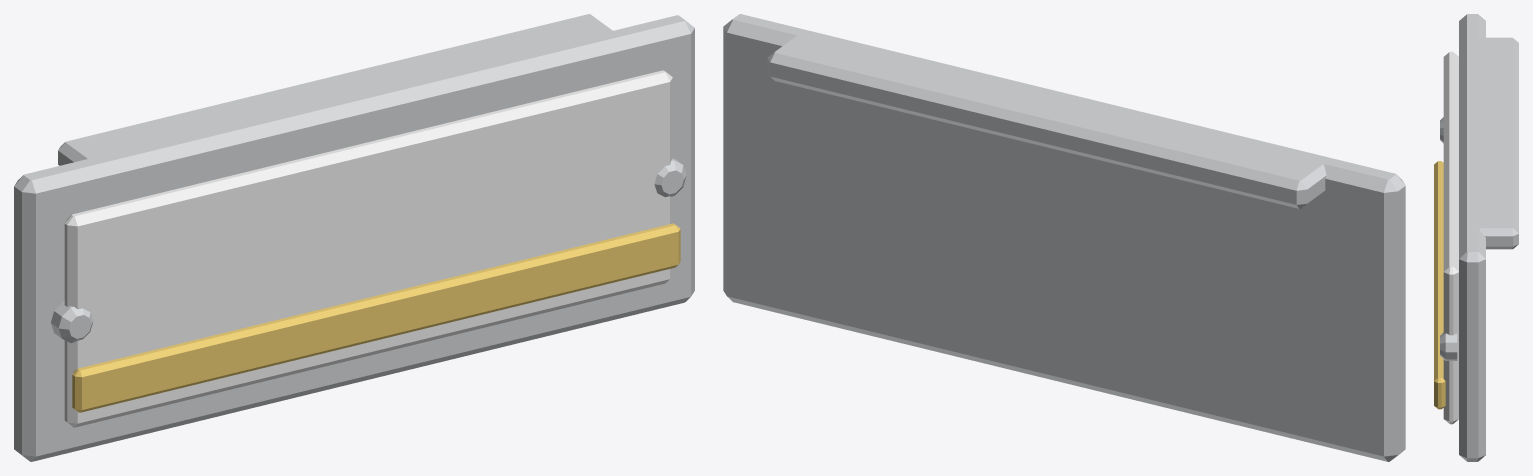
Rendered from clinic-and-veterinary-practice-room-name-plate-e65391c1__16825.glb.
3 renders of one model, left to right at view 1: azimuth 30°, elevation 25°; view 2: azimuth 150°, elevation 25°; view 3: azimuth 270°, elevation 25°, orthographic. The views are drawn at different scales.
Visible parts, largest first — view 1: room-name-plate; view 2: room-name-plate; view 3: room-name-plate.
Part boxes in pixels (<box>): room-name-plate: <box>14,14,694,461</box>; room-name-plate: <box>723,14,1405,461</box>; room-name-plate: <box>1434,14,1518,461</box>.
Bounding box in the file's own units: 0.3 × 0.12 × 0.044.
